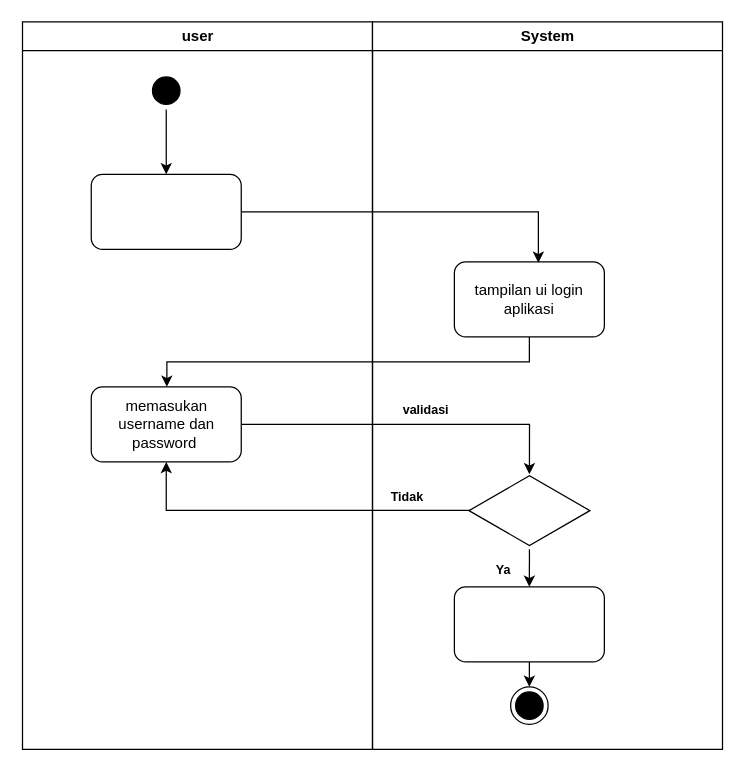
Some shapes in this 744 by 771 pixel diagram are drawn without their labels. The centre of each missing label's shape, as x and y in pixels:
login: pixel 165 211
tampilan menu utama: pixel 528 624
